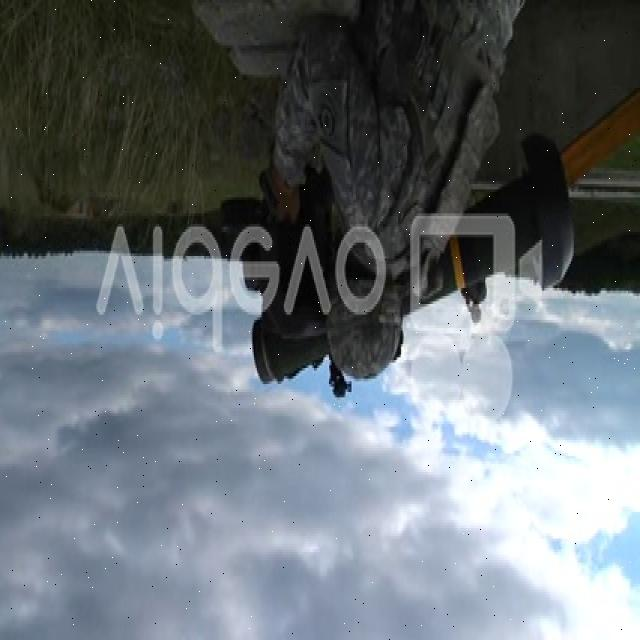bazooka: (249, 127, 580, 395)
